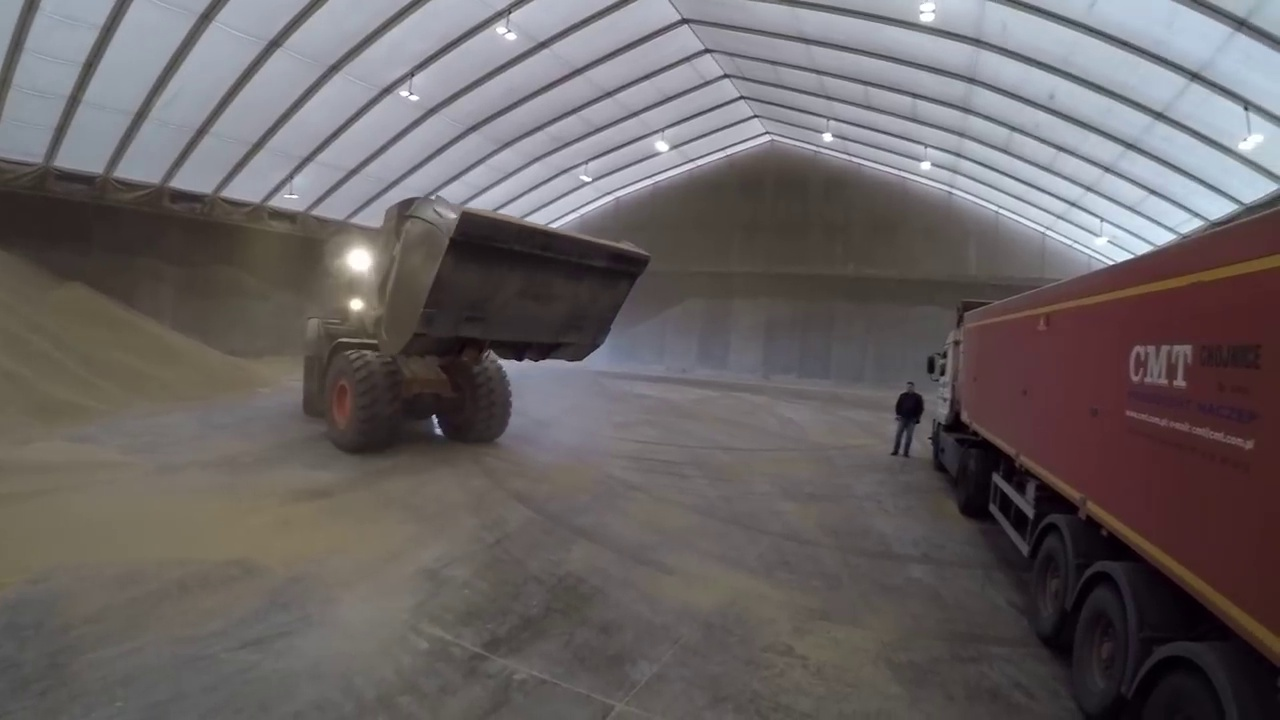person: (893, 375, 923, 457)
truck: (933, 204, 1280, 718)
wheel loader: (308, 194, 654, 451)
